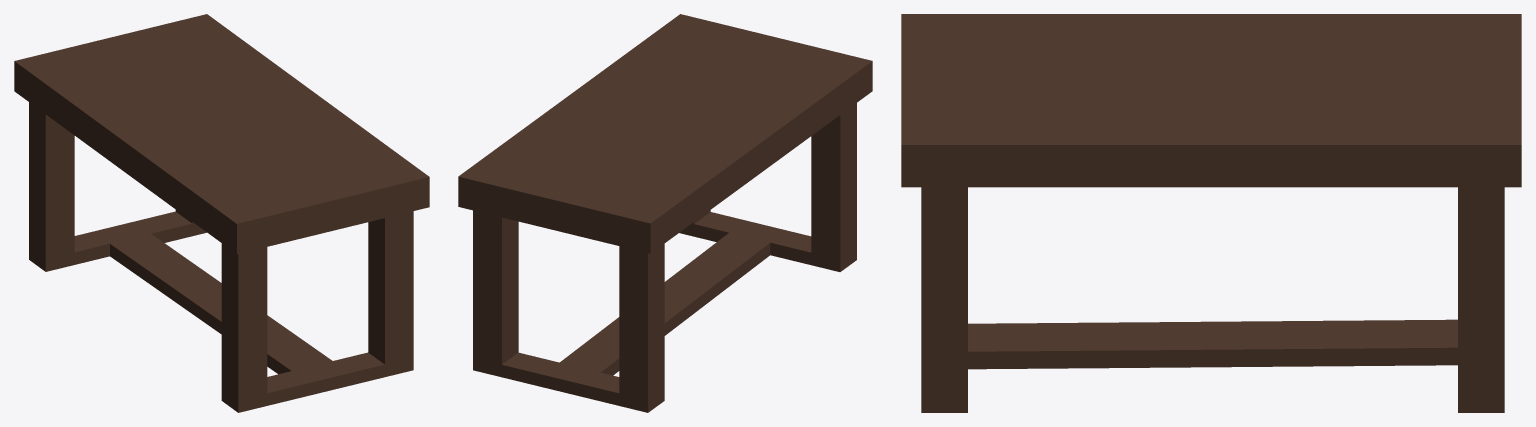
Rendered from Table.fbx.
3 renders of one model, left to right at view 1: azimuth 30°, elevation 25°; view 2: azimuth 150°, elevation 25°; view 3: azimuth 270°, elevation 25°, orthographic. The views are drawn at different scales.
Visible parts, largest first — view 1: Table; view 2: Table; view 3: Table.
Part boxes in pixels (bbox=[...]): Table: bbox=[14, 14, 429, 412]; Table: bbox=[458, 14, 872, 412]; Table: bbox=[901, 14, 1521, 412].
Bounding box in the file's own units: 2 × 1.95 × 4.
